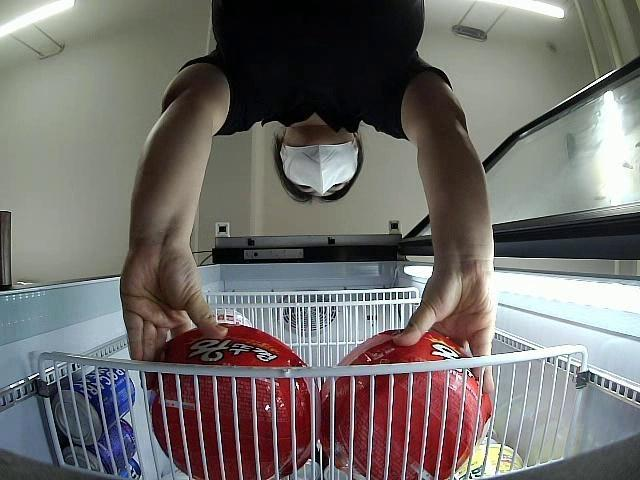10_wangTtukkeong: (322, 326, 492, 480), (154, 325, 318, 480)
